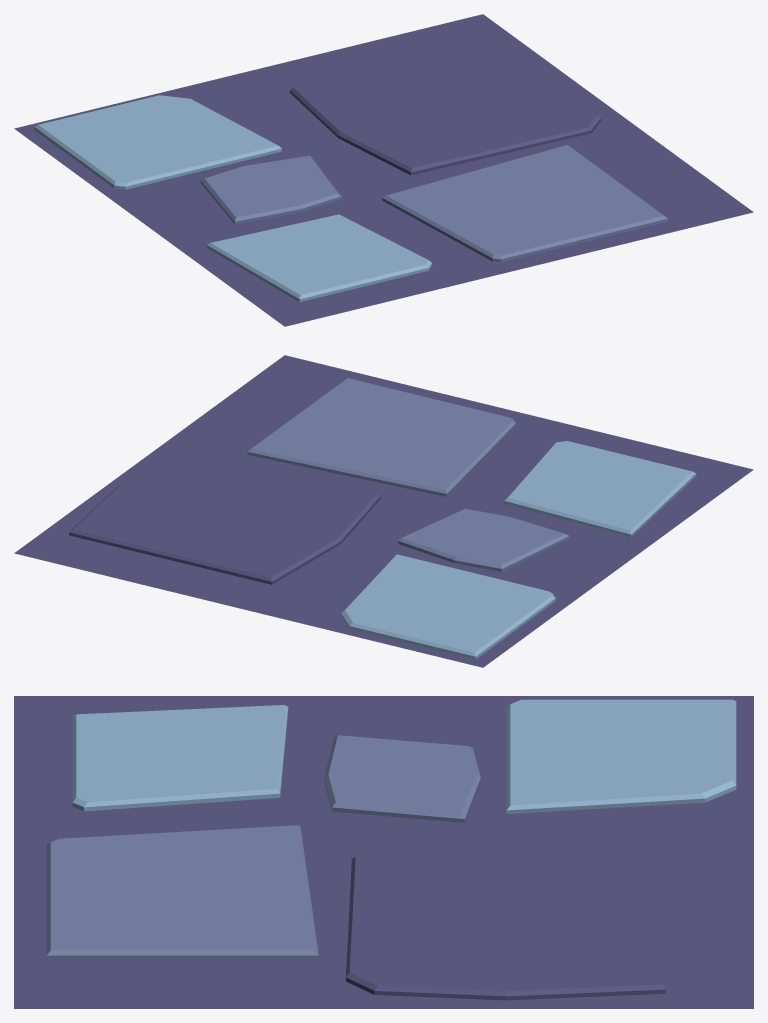
File: Floor_Stones_Big_02.fbx
3 renders of one model, top to bottom at view 1: azimuth 30°, elevation 25°; view 2: azimuth 150°, elevation 25°; view 3: azimuth 270°, elevation 25°, orthographic. The views are drawn at different scales.
Parts seen in each view (by area): view 1: Floor_Stones_Big_02; view 2: Floor_Stones_Big_02; view 3: Floor_Stones_Big_02.
Part boxes in pixels (x1=…): Floor_Stones_Big_02: x1=14, y1=14, x2=753, y2=326; Floor_Stones_Big_02: x1=14, y1=355, x2=753, y2=667; Floor_Stones_Big_02: x1=14, y1=696, x2=753, y2=1008.
Size of the model in its own units: 1000 by 11.22 by 1000.
